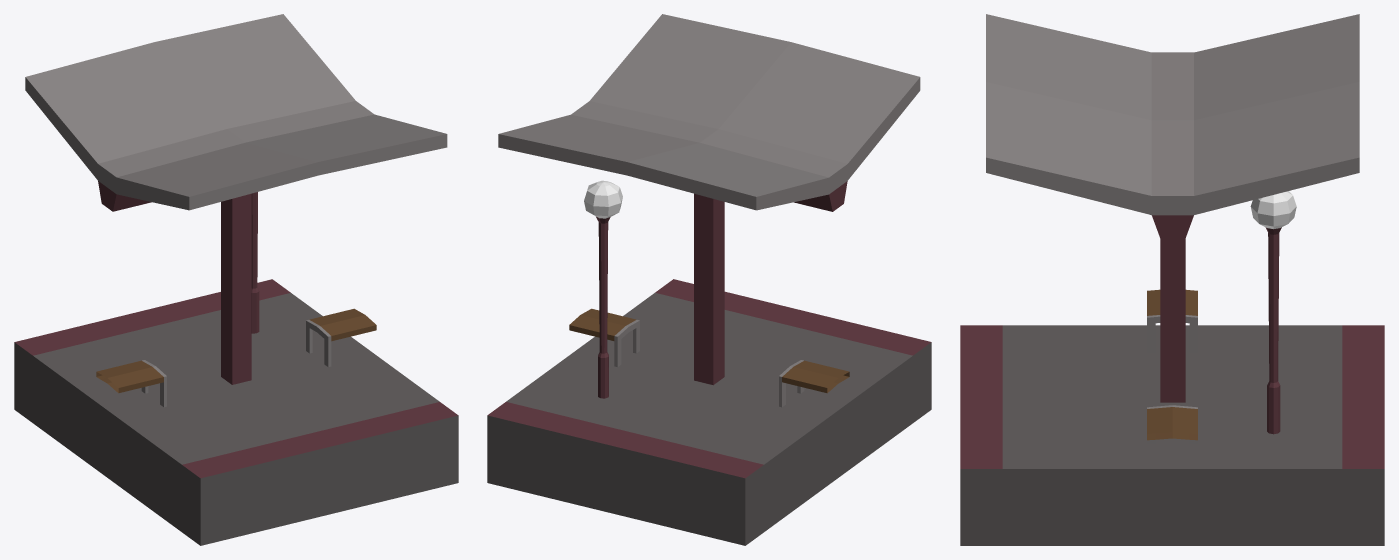
The model's file is train-station-platform-light-small.fbx.
3 views of the same model, side by side, from view 1: azimuth 30°, elevation 25°; view 2: azimuth 150°, elevation 25°; view 3: azimuth 270°, elevation 25° (orthographic). The views are drawn at different scales.
Parts seen in each view (by area): view 1: train-station-platform-light-small; view 2: train-station-platform-light-small; view 3: train-station-platform-light-small.
Boxes of the visible parts, <box> form: train-station-platform-light-small: <box>14,14,458,545</box>; train-station-platform-light-small: <box>487,14,931,545</box>; train-station-platform-light-small: <box>960,14,1384,545</box>.
Bounding box in the file's own units: 4 × 5.1 × 5.
